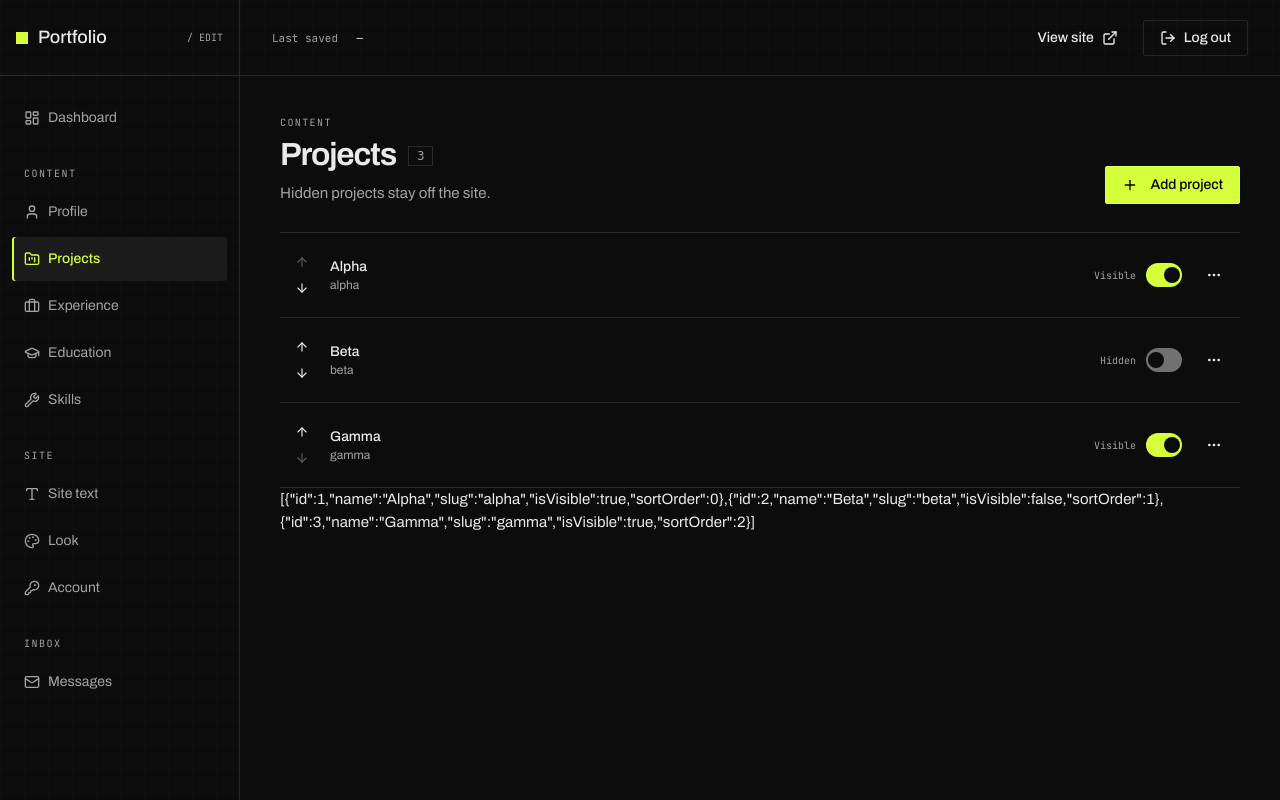
Test case: ListEditor › closing a dirty panel asks to discard; Keep editing keeps it
The image size is (1280, 800).
Click the text "Beta" at [345, 352], box [330,342,360,362]
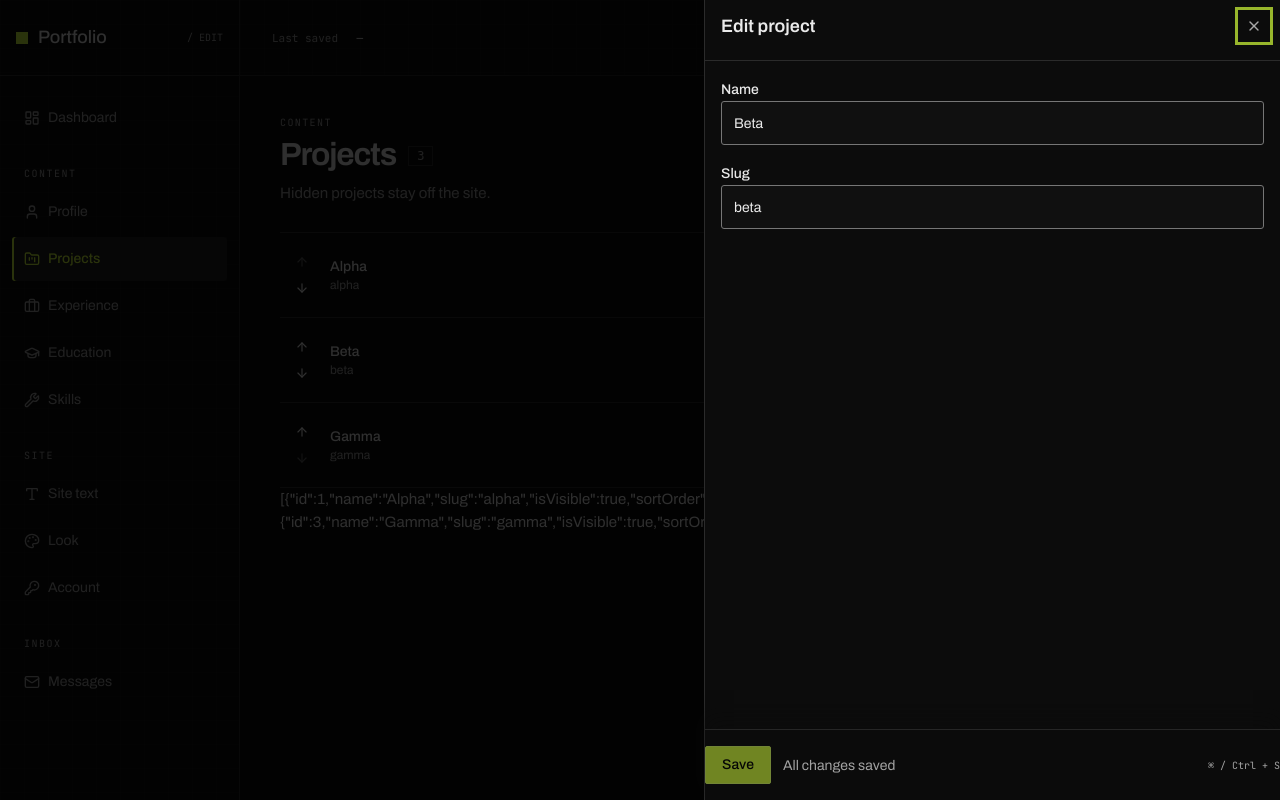
Type "x" into the field labelled "Name" at [992, 123], box [721,101,1264,145]
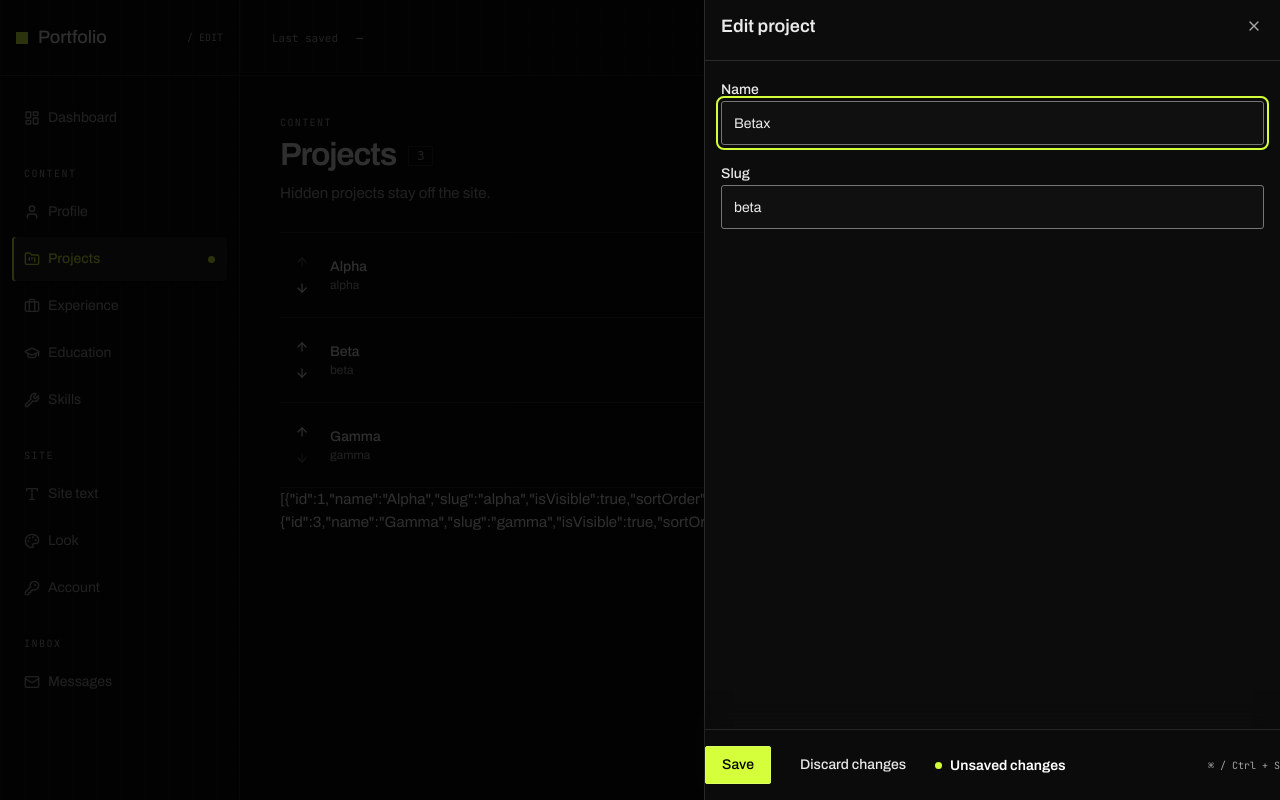
Click the button named "Close" at [1254, 26], box [1240,12,1268,40]
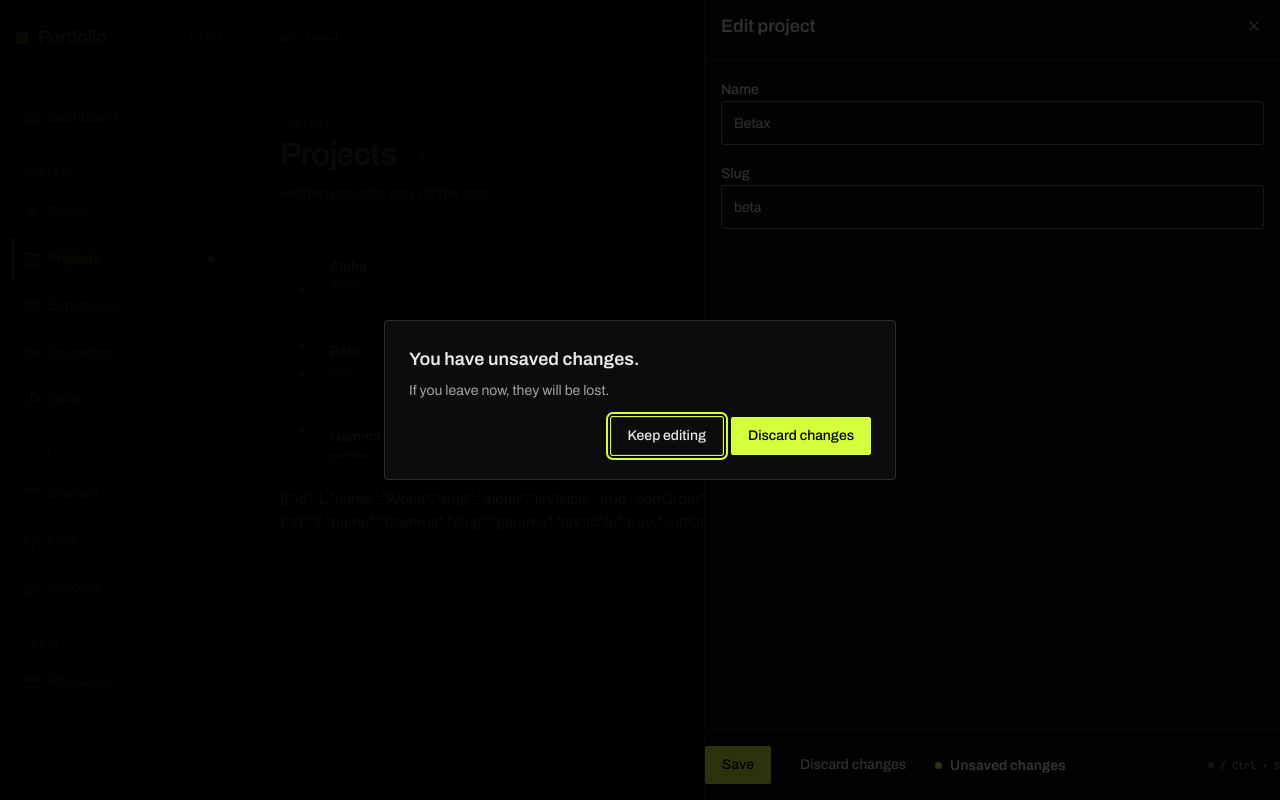
Result: the heading "You have unsaved changes." is shown at [409,349,639,369]
Click the button "Keep editing" at [667, 436], box [611,417,723,455]
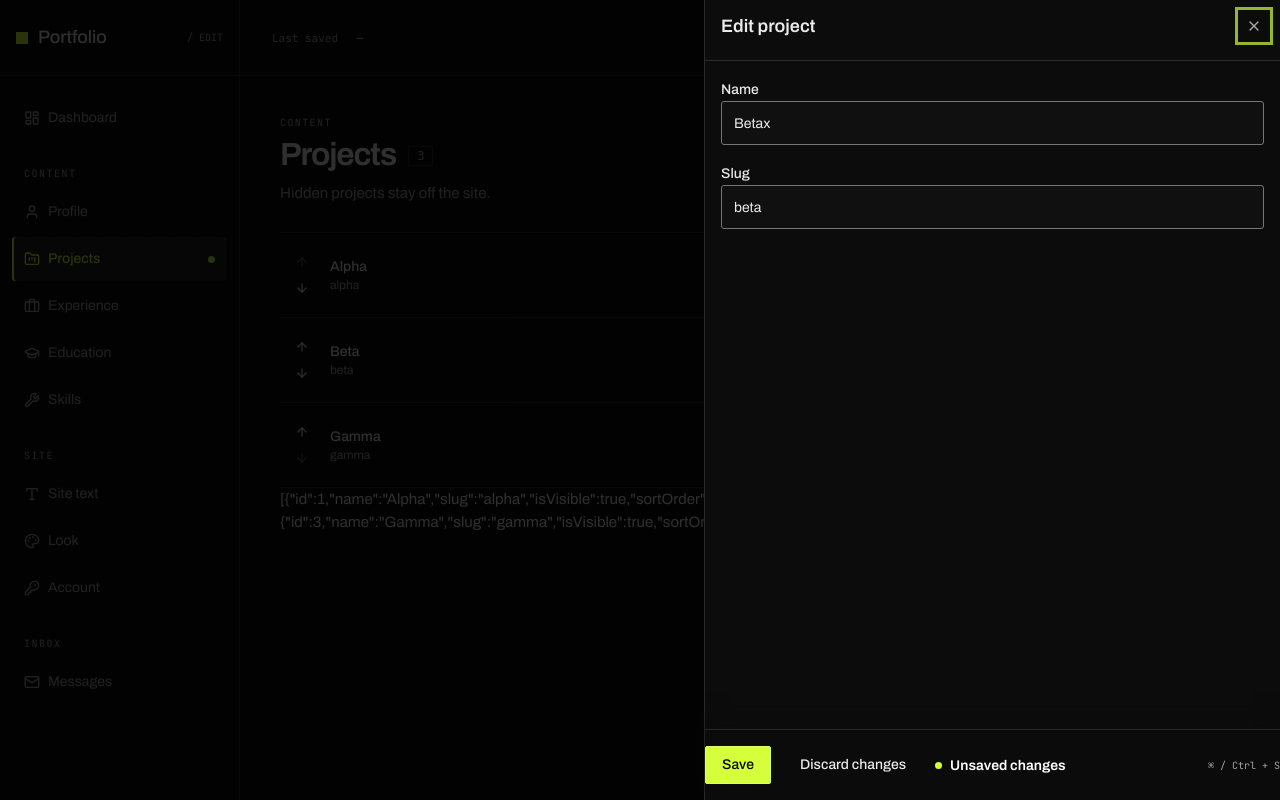
Result: the field labelled "Name" holds "Betax" at [721,101,1264,145]
Result: the heading "You have unsaved changes." is gone
